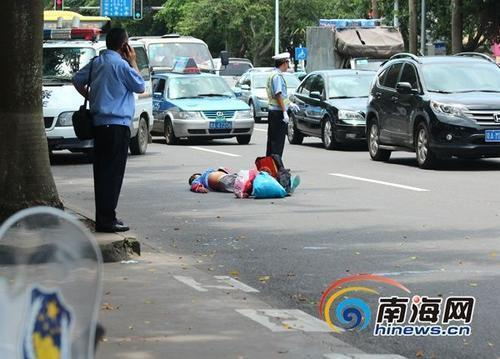Fall-Detected: (179, 147, 303, 203)
